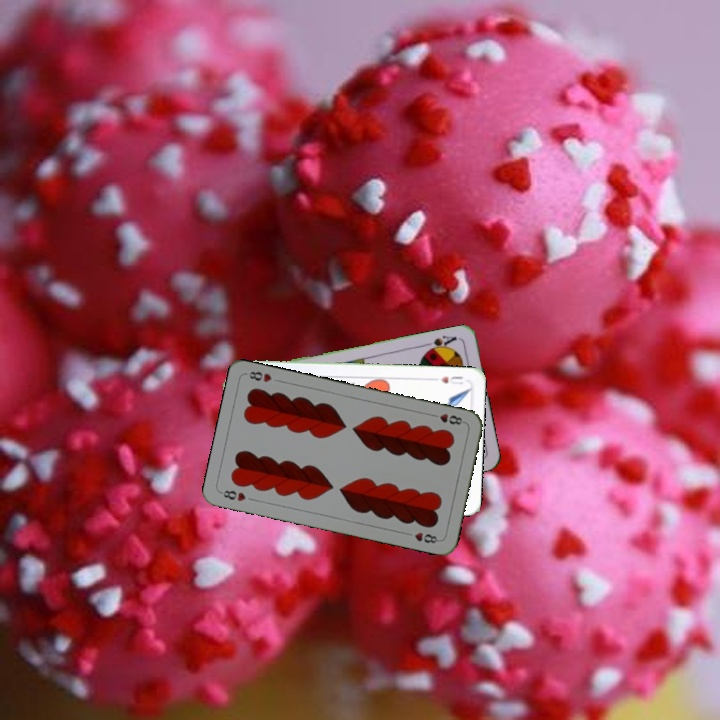H8: (427, 409, 467, 427), (217, 486, 248, 504)
HU: (437, 372, 466, 387)
SA: (421, 331, 459, 355)
